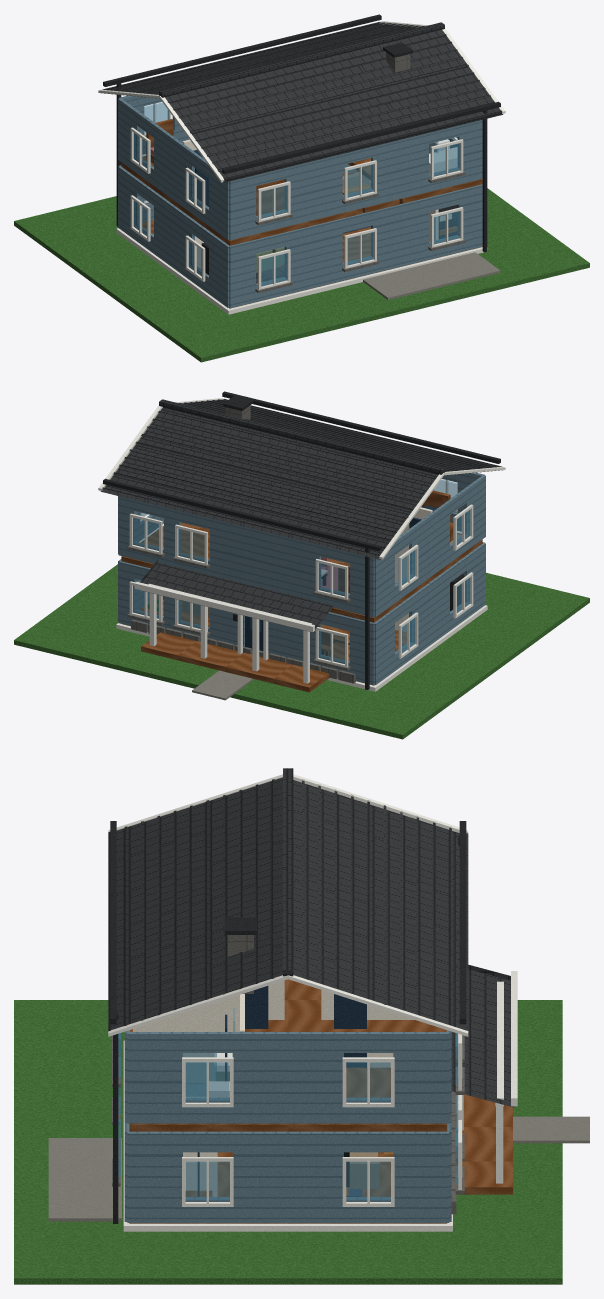
Rendered from amerikanisches_vorstadthaus_final_godot.glb.
3 views of the same model, one above another, from view 1: azimuth 30°, elevation 25°; view 2: azimuth 150°, elevation 25°; view 3: azimuth 270°, elevation 25° (orthographic). The views are drawn at different scales.
Parts seen in each view (by area): view 1: Grundstueck, Dachflaeche_hinten, EG_Rueck_Pfeiler_1, EG_Rueck_Pfeiler_2, OG_Rueck_Pfeiler_1, OG_Rueck_Pfeiler_2, Dachflaeche_vorn, Terrasse, OG_West_Pfeiler_1, EG_West_Pfeiler_1, Firstabdeckung, Fundament (+44 smaller); view 2: Grundstueck, Dachflaeche_vorn, OG_Front_Pfeiler_1, Veranda_Dach, Veranda_Deck, Dachflaeche_hinten, OG_West_Pfeiler_1, EG_West_Pfeiler_1, Firstabdeckung, Dachrinne_-4.78, Dachrinne_4.78, Veranda_Dachkante (+34 smaller); view 3: Grundstueck, Dachflaeche_vorn, Dachflaeche_hinten, OG_Ost_Pfeiler_1, EG_Ost_Pfeiler_1, Terrasse, Veranda_Dach, EG_Ost_Pfeiler_0, OG_Ost_Pfeiler_0, OG_Ost_Pfeiler_Ende, EG_Ost_Pfeiler_Ende, Veranda_Deck (+38 smaller).
Part boxes in pixels (x1=…): Grundstueck: x1=14, y1=188, x2=589, y2=362; Dachflaeche_hinten: x1=165, y1=29, x2=503, y2=182; EG_Rueck_Pfeiler_1: x1=284, y1=219, x2=342, y2=294; EG_Rueck_Pfeiler_2: x1=371, y1=197, x2=428, y2=273; OG_Rueck_Pfeiler_1: x1=284, y1=154, x2=342, y2=226; OG_Rueck_Pfeiler_2: x1=371, y1=133, x2=428, y2=205; Dachflaeche_vorn: x1=101, y1=23, x2=415, y2=98; Terrasse: x1=363, y1=252, x2=500, y2=299; OG_West_Pfeiler_1: x1=154, y1=124, x2=194, y2=213; EG_West_Pfeiler_1: x1=154, y1=192, x2=194, y2=281; Firstabdeckung: x1=159, y1=22, x2=444, y2=97; Fundament: x1=116, y1=228, x2=487, y2=314; Grundstueck: x1=14, y1=564, x2=589, y2=739; Dachflaeche_vorn: x1=100, y1=407, x2=438, y2=559; OG_Front_Pfeiler_1: x1=209, y1=518, x2=321, y2=601; Veranda_Dach: x1=137, y1=560, x2=333, y2=632; Veranda_Deck: x1=141, y1=632, x2=329, y2=692; Dachflaeche_hinten: x1=182, y1=399, x2=502, y2=475; OG_West_Pfeiler_1: x1=409, y1=501, x2=449, y2=590; EG_West_Pfeiler_1: x1=409, y1=569, x2=449, y2=658; Firstabdeckung: x1=159, y1=399, x2=444, y2=474; Dachrinne_-4.78: x1=103, y1=478, x2=381, y2=551; Dachrinne_4.78: x1=222, y1=391, x2=500, y2=463; Veranda_Dachkante: x1=134, y1=582, x2=314, y2=632; Grundstueck: x1=14, y1=1000, x2=562, y2=1284; Dachflaeche_vorn: x1=293, y1=780, x2=465, y2=1030; Dachflaeche_hinten: x1=111, y1=777, x2=282, y2=1029; OG_Ost_Pfeiler_1: x1=232, y1=1032, x2=343, y2=1123; EG_Ost_Pfeiler_1: x1=232, y1=1131, x2=343, y2=1222; Terrasse: x1=48, y1=1138, x2=121, y2=1221; Veranda_Dach: x1=451, y1=964, x2=514, y2=1107; EG_Ost_Pfeiler_0: x1=393, y1=1131, x2=449, y2=1222; OG_Ost_Pfeiler_0: x1=393, y1=1032, x2=449, y2=1123; OG_Ost_Pfeiler_Ende: x1=127, y1=1032, x2=182, y2=1123; EG_Ost_Pfeiler_Ende: x1=127, y1=1131, x2=182, y2=1222; Veranda_Deck: x1=456, y1=1094, x2=512, y2=1194.
Bounding box in the file's own units: 18 × 8.41 × 15.75.
24 materials, 24 textured.
